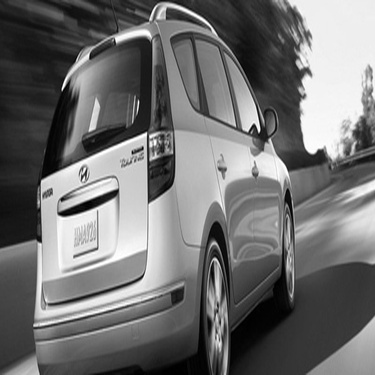car: (23, 1, 303, 372)
